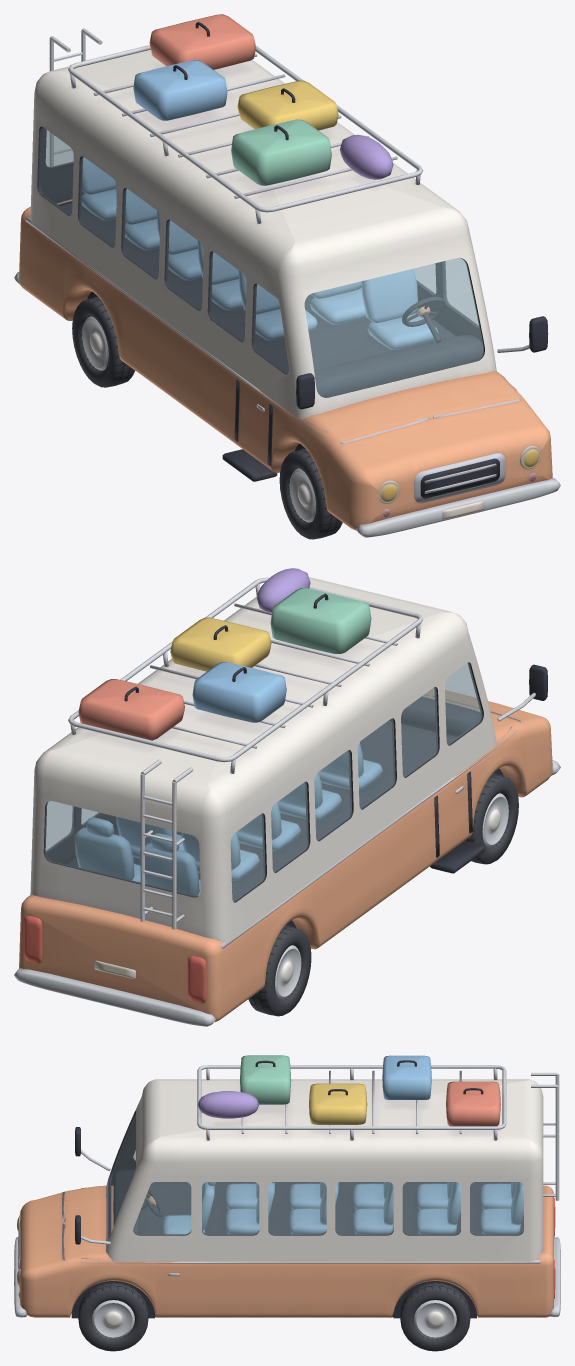
File: minibus.glb
3 views of the same model, one above another, from view 1: azimuth 30°, elevation 25°; view 2: azimuth 150°, elevation 25°; view 3: azimuth 270°, elevation 25° (orthographic). The views are drawn at different scales.
Visible parts, largest first — view 1: minibus_body, minibus_windows, minibus_wheel_fr, minibus_wheel_rr; view 2: minibus_body, minibus_windows, minibus_wheel_rr, minibus_wheel_fr; view 3: minibus_body, minibus_windows, minibus_wheel_fl, minibus_wheel_rl.
Part boxes in pixels (x1,y1,x2,y2): minibus_body: [14, 14, 560, 537]; minibus_windows: [39, 127, 483, 397]; minibus_wheel_fr: [279, 448, 342, 539]; minibus_wheel_rr: [72, 296, 135, 387]; minibus_body: [14, 568, 560, 1026]; minibus_windows: [45, 662, 481, 901]; minibus_wheel_rr: [248, 925, 311, 1016]; minibus_wheel_fr: [465, 773, 518, 864]; minibus_body: [14, 1055, 560, 1318]; minibus_windows: [110, 1114, 523, 1235]; minibus_wheel_fl: [78, 1282, 148, 1351]; minibus_wheel_rl: [400, 1282, 470, 1351].
Size of the model in its own units: 2.53 by 3.09 by 6.18.
6 materials, 2 textured.
